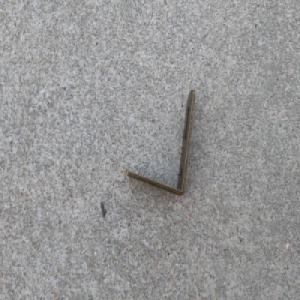MetalPart: (125, 87, 197, 198)
